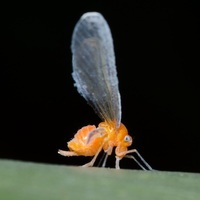insect: (58, 12, 152, 169)
